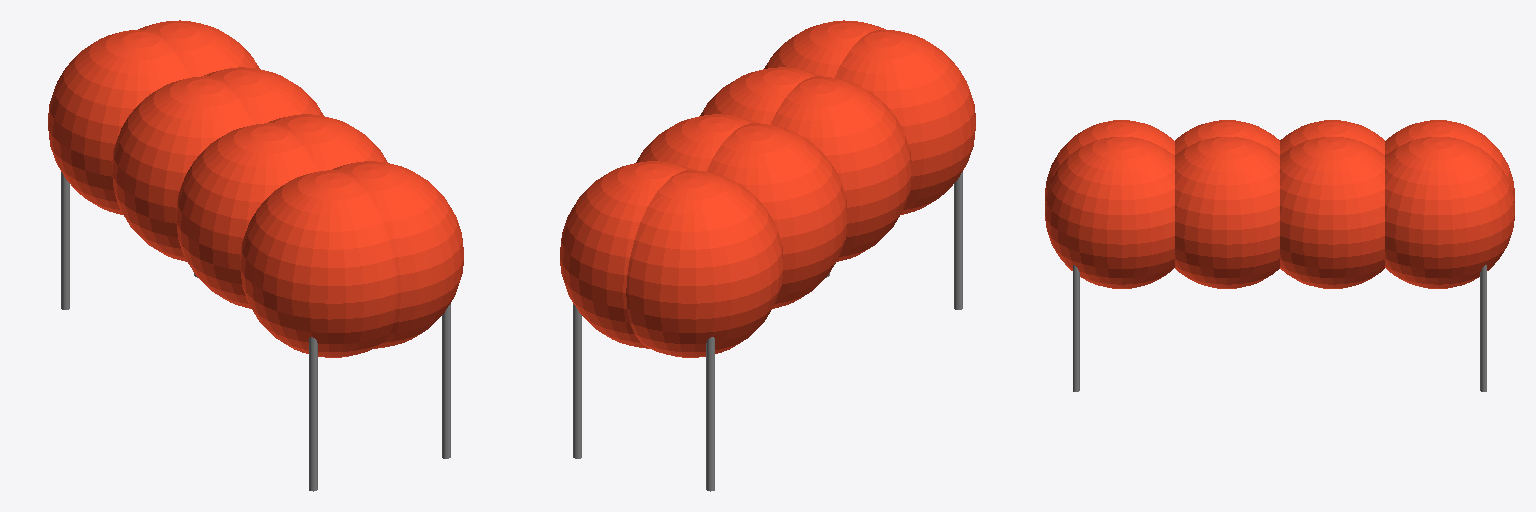
robot.urdf — box:
<?xml version="1.0" ?>
<robot name="box">

  <material name="panda_white">
    <color rgba="1. 0.87 0.68 1."/>
  </material>

  <material name="metal">
    <color rgba="0.6 0.6 0.6 1."/>
  </material>

  <material name="orangered">
    <color rgba="1 0.34 0.2 0.1"/>
  </material>

  <link name="link1">
    <inertial>
      <origin rpy="0 0 0" xyz="0 0 0"/>
       <mass value=".0"/>
       <inertia ixx="0" ixy="0" ixz="0" iyy="0" iyz="0" izz="0"/>
    </inertial>

    <visual>
      <origin rpy="0 0 0" xyz="0.0 0 0.25"/>
      <geometry>
        <box size="0.2 0.6 0.005"/>
      </geometry>
      <material name="panda_white"/>
    </visual>
  </link>

  <link name="link2">
    <inertial>
      <origin rpy="0 0 0" xyz="0 0 0"/>
       <mass value=".0"/>
       <inertia ixx="0" ixy="0" ixz="0" iyy="0" iyz="0" izz="0"/>
    </inertial>

    <visual>
      <origin rpy="0 0 0" xyz="0.09 0.29 0.125"/>
      <geometry>
        <cylinder radius="0.005" length="0.25"/>
      </geometry>
      <material name="metal"/>
    </visual>

    <visual>
      <origin rpy="0 0 0" xyz="0.09 -0.29 0.125"/>
      <geometry>
        <cylinder radius="0.005" length="0.25"/>
      </geometry>
      <material name="metal"/>
    </visual>

    <visual>
      <origin rpy="0 0 0" xyz="-0.09 0.29 0.125"/>
      <geometry>
        <cylinder radius="0.005" length="0.25"/>
      </geometry>
      <material name="metal"/>
    </visual>

    <visual>
      <origin rpy="0 0 0" xyz="-0.09 -0.29 0.125"/>
      <geometry>
        <cylinder radius="0.005" length="0.25"/>
      </geometry>
      <material name="metal"/>
    </visual>
  </link>

  <link name="link3">
    <inertial>
      <origin rpy="0 0 0" xyz="0 0 0"/>
       <mass value=".0"/>
       <inertia ixx="0" ixy="0" ixz="0" iyy="0" iyz="0" izz="0"/>
    </inertial>

    <visual>
      <origin rpy="0 0 0" xyz="0.025 -0.225 0.25"/>
      <geometry>
        <sphere radius="0.11"/>
      </geometry>
      <material name="orangered"/>
    </visual>

    <visual>
      <origin rpy="0 0 0" xyz="-0.025 -0.225 0.25"/>
      <geometry>
        <sphere radius="0.11"/>
      </geometry>
      <material name="orangered"/>
    </visual>

    <visual>
      <origin rpy="0 0 0" xyz="0.025 -0.075 0.25"/>
      <geometry>
        <sphere radius="0.11"/>
      </geometry>
      <material name="orangered"/>
    </visual>

    <visual>
      <origin rpy="0 0 0" xyz="-0.025 -0.075 0.25"/>
      <geometry>
        <sphere radius="0.11"/>
      </geometry>
      <material name="orangered"/>
    </visual>

    <visual>
      <origin rpy="0 0 0" xyz="0.025 0.075 0.25"/>
      <geometry>
        <sphere radius="0.11"/>
      </geometry>
      <material name="orangered"/>
    </visual>

    <visual>
      <origin rpy="0 0 0" xyz="-0.025 0.075 0.25"/>
      <geometry>
        <sphere radius="0.11"/>
      </geometry>
      <material name="orangered"/>
    </visual>

    <visual>
      <origin rpy="0 0 0" xyz="0.025 0.225 0.25"/>
      <geometry>
        <sphere radius="0.11"/>
      </geometry>
      <material name="orangered"/>
    </visual>

    <visual>
      <origin rpy="0 0 0" xyz="-0.025 0.225 0.25"/>
      <geometry>
        <sphere radius="0.11"/>
      </geometry>
      <material name="orangered"/>
    </visual>

  </link>

  <joint name="fixed_joint" type="fixed">
    <parent link="link1"/>
    <child link="link2"/>
    <origin xyz="0 0 0" rpy="0 0 0"/>
  </joint>

  <joint name="fixed_joint_2" type="fixed">
    <parent link="link1"/>
    <child link="link3"/>
    <origin xyz="0 0 0" rpy="0 0 0"/>
  </joint>


</robot>

--- Render facts (derived) ---
3 views of the same robot in one strip: view 1: azimuth 30°, elevation 25°; view 2: azimuth 150°, elevation 25°; view 3: azimuth 270°, elevation 25° (orthographic).
Robot: box — 3 links, 2 joints (2 fixed); root link link1; default pose: every joint at zero.
Visible links, largest first — view 1: link3, link2; view 2: link3, link2; view 3: link3, link2.
Boxes of the visible links, bbox=[...] form: link3: bbox=[48, 20, 463, 357]; link2: bbox=[61, 172, 450, 491]; link3: bbox=[560, 20, 975, 357]; link2: bbox=[573, 172, 962, 491]; link3: bbox=[1045, 120, 1514, 288]; link2: bbox=[1073, 265, 1486, 391].
Bounding box of the posed robot: 0.27 × 0.67 × 0.36 m (x, y, z).
Geometry: primitives only (box / cylinder / sphere), no mesh files.